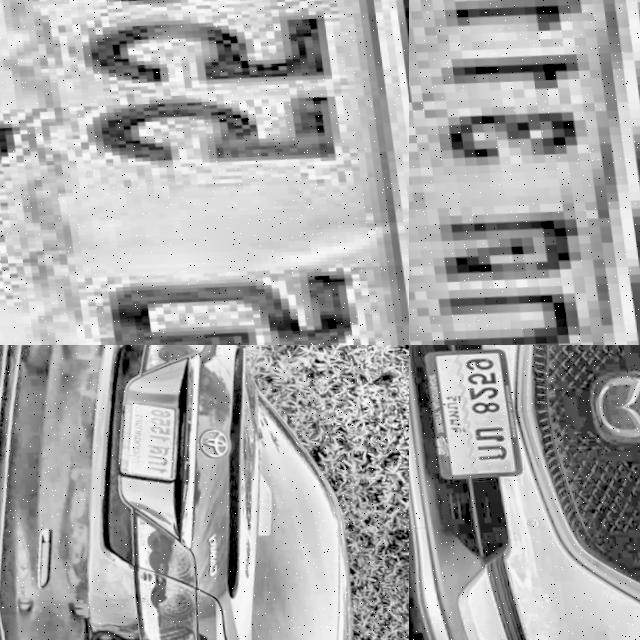license-plate: (0, 0, 409, 345), (409, 0, 640, 345), (415, 345, 523, 480), (103, 390, 188, 487)
